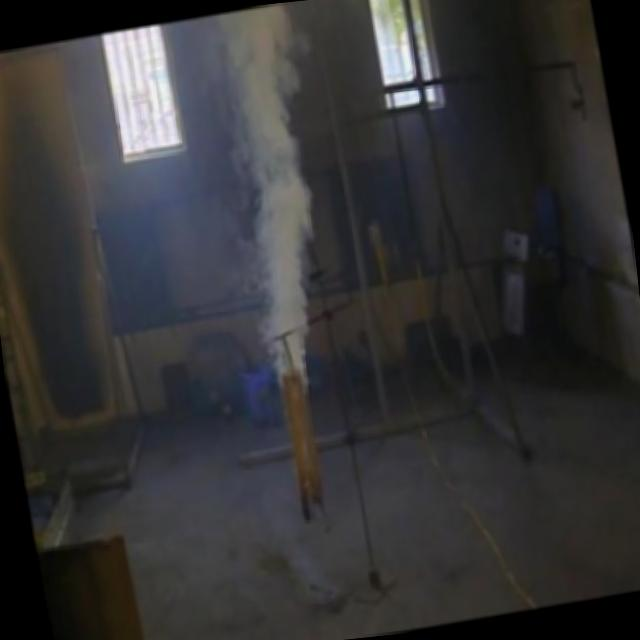smoke: (193, 5, 374, 494)
